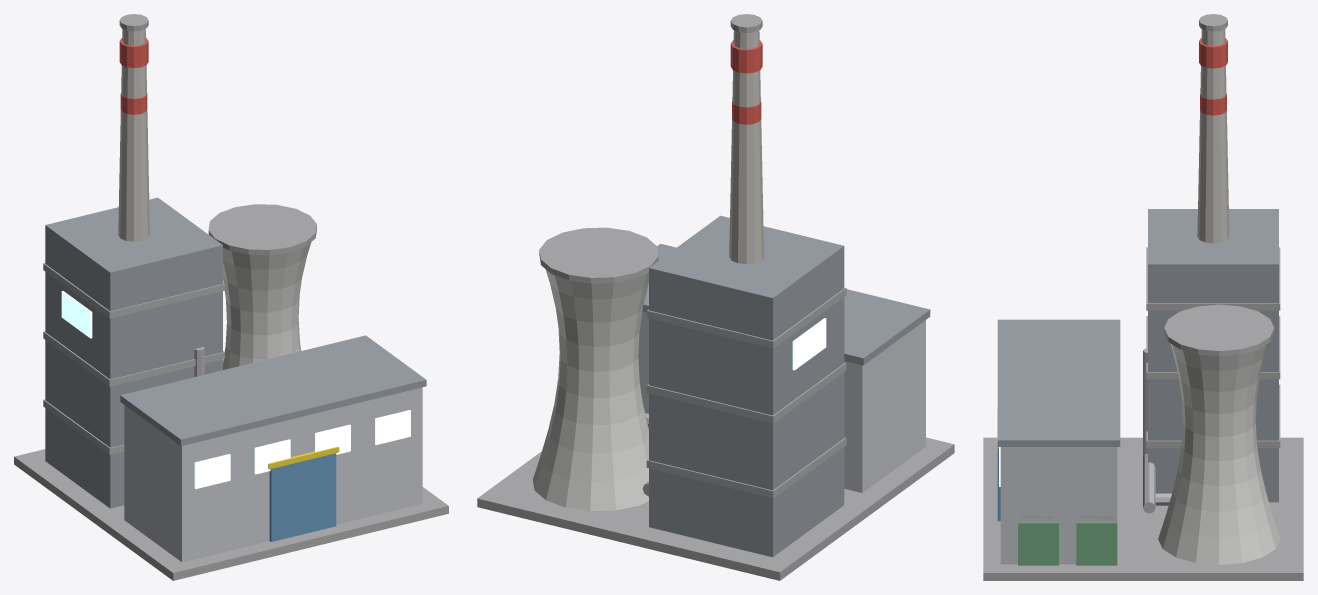
File: powerplant.glb
3 views of the same model, side by side, from view 1: azimuth 30°, elevation 25°; view 2: azimuth 150°, elevation 25°; view 3: azimuth 270°, elevation 25° (orthographic). The views are drawn at different scales.
Visible parts, largest first — view 1: PowerPlant; view 2: PowerPlant; view 3: PowerPlant.
Part boxes in pixels (x1,y1,x2,y2): PowerPlant: (14,14,448,580); PowerPlant: (477,14,954,580); PowerPlant: (983,14,1303,580).
Size of the model in its own units: 11 by 17.5 by 11.
